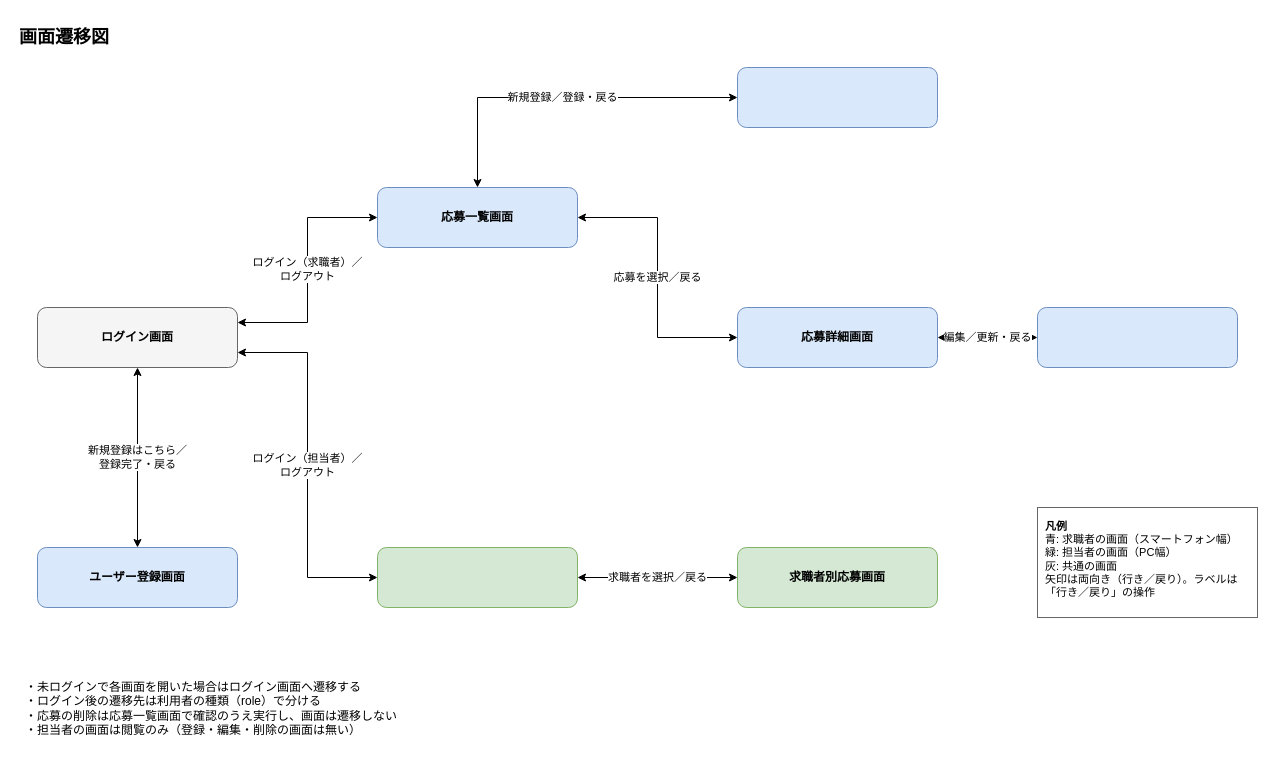
Image size: 1275x774. Some labels were removed from this diagram. Each missing label, with the centre of its shape:
応募登録画面: [837,97]
応募編集画面: [1137,337]
担当者用一覧画面: [477,577]
